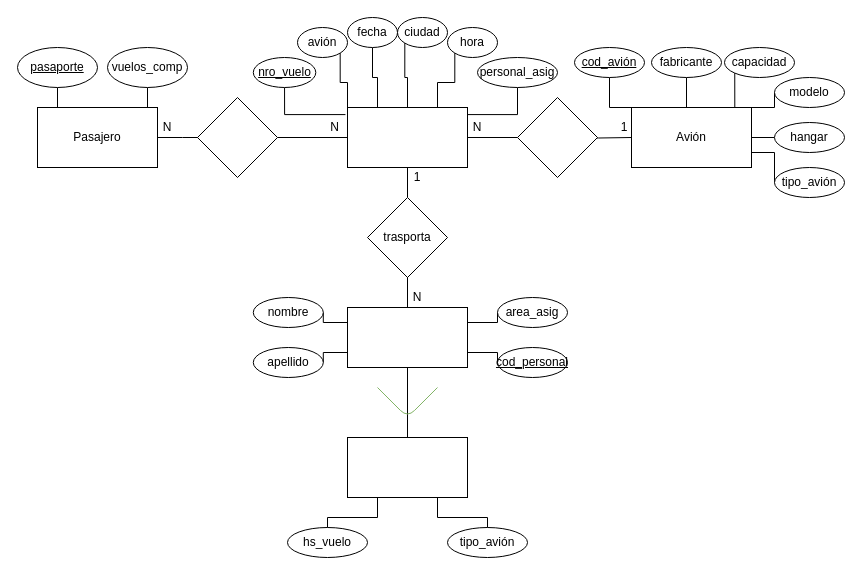
This 862x575 diagram has some shape labels left out. The shapes that lost their labels are listed below. From the top down, each one's centre as x and y in pixels, then its label:
At (237,137): "aborda".
At (407,137): "Vuelo".
At (557,137): "utiliza".
At (407,337): "Personal".
At (407,467): "Piloto".
